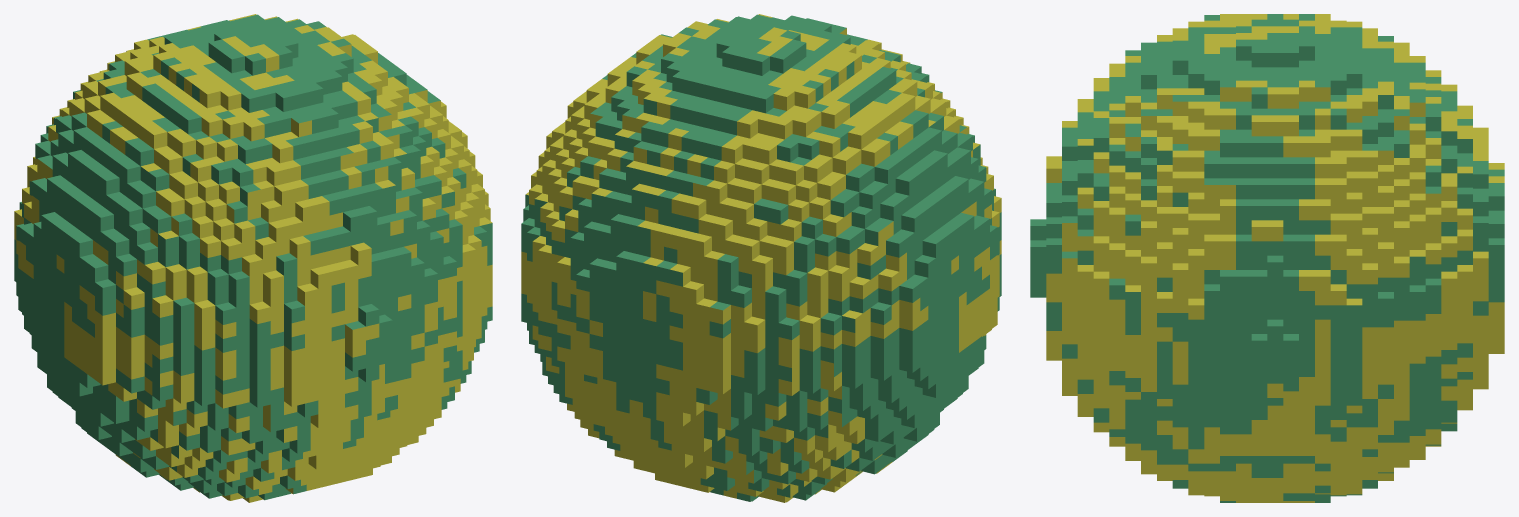
The model's file is planet7.fbx.
3 views of the same model, side by side, from view 1: azimuth 30°, elevation 25°; view 2: azimuth 150°, elevation 25°; view 3: azimuth 270°, elevation 25° (orthographic). The views are drawn at different scales.
Parts seen in each view (by area): view 1: MASH1_ReproMesh; view 2: MASH1_ReproMesh; view 3: MASH1_ReproMesh.
Boxes of the visible parts, <box> form: MASH1_ReproMesh: <box>14,14,492,502</box>; MASH1_ReproMesh: <box>521,14,1001,502</box>; MASH1_ReproMesh: <box>1030,14,1504,502</box>.
Bounding box in the file's own units: 30 × 30 × 30.
